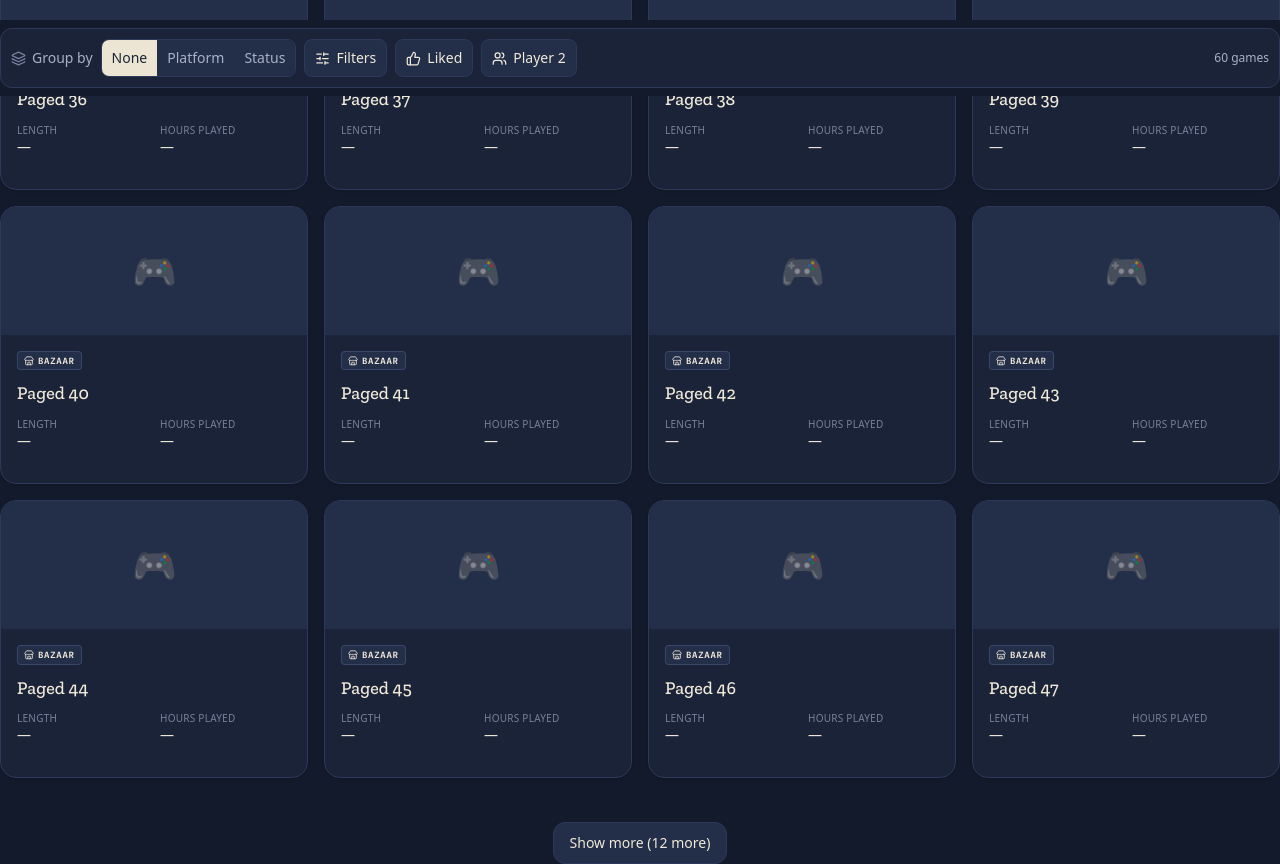
Scenario: Master Ledger paging (86dce059 — reveal a page of rows at a time) › mounts one page of rows and reveals the rest via Show more
(page scrolled)
Expected: the heading "Paged 47" is shown, [989, 677, 1059, 699]
Expected: the text "Paged 48" is not shown
# jsdom has no IntersectionObserver, so the button is the reveal path.
Click the button "Show more (12 more)" at (640,843), box [553, 822, 727, 863]
(page scrolled)
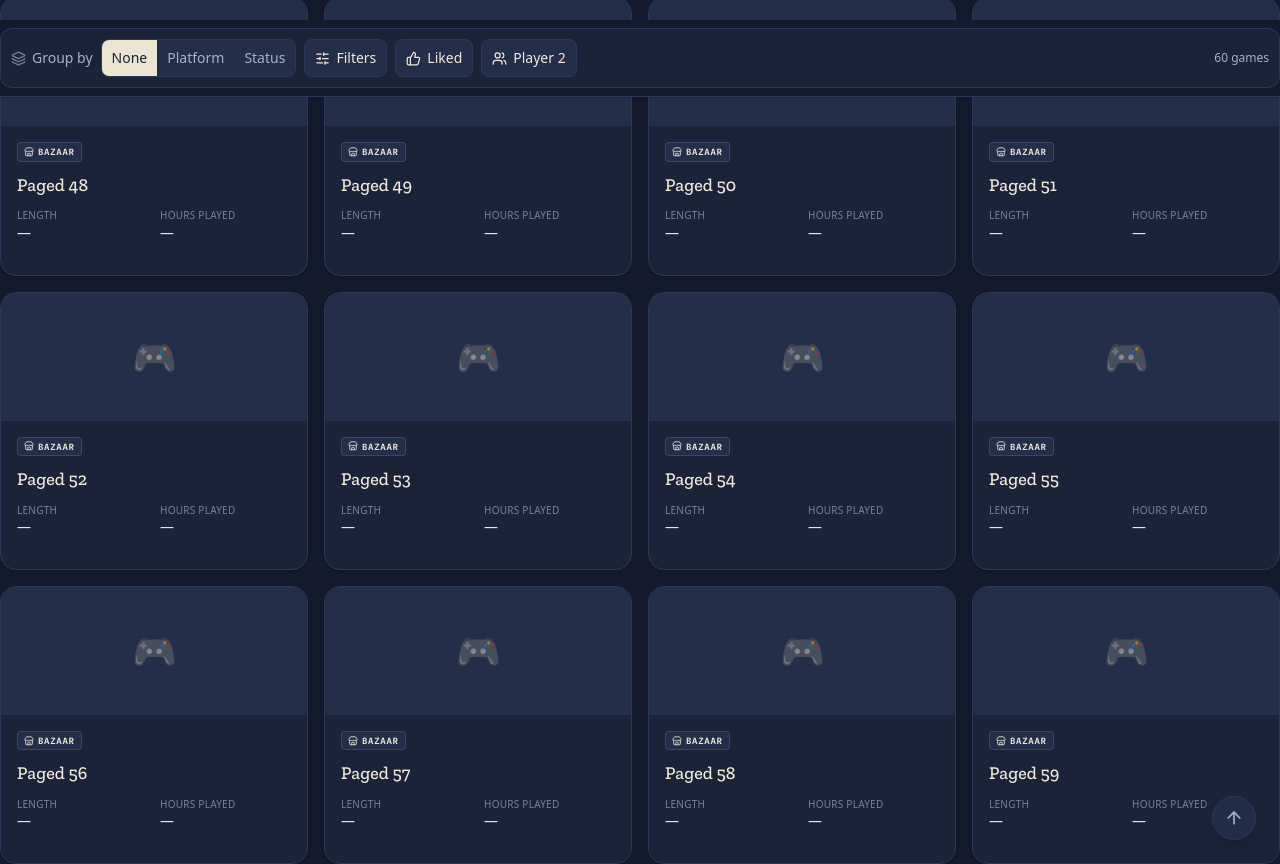
Now the heading "Paged 59" is shown, box [989, 762, 1059, 784]
Now the button "Show more" is gone
